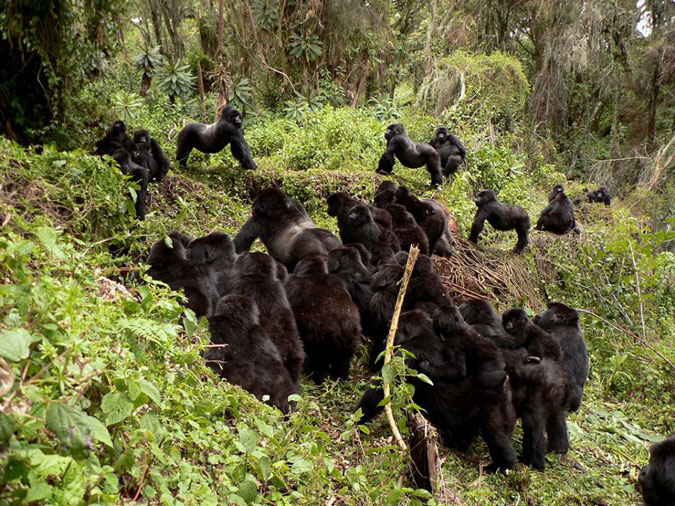Goriila: (93, 119, 184, 207), (175, 97, 263, 172), (467, 188, 533, 252), (378, 129, 442, 182)
